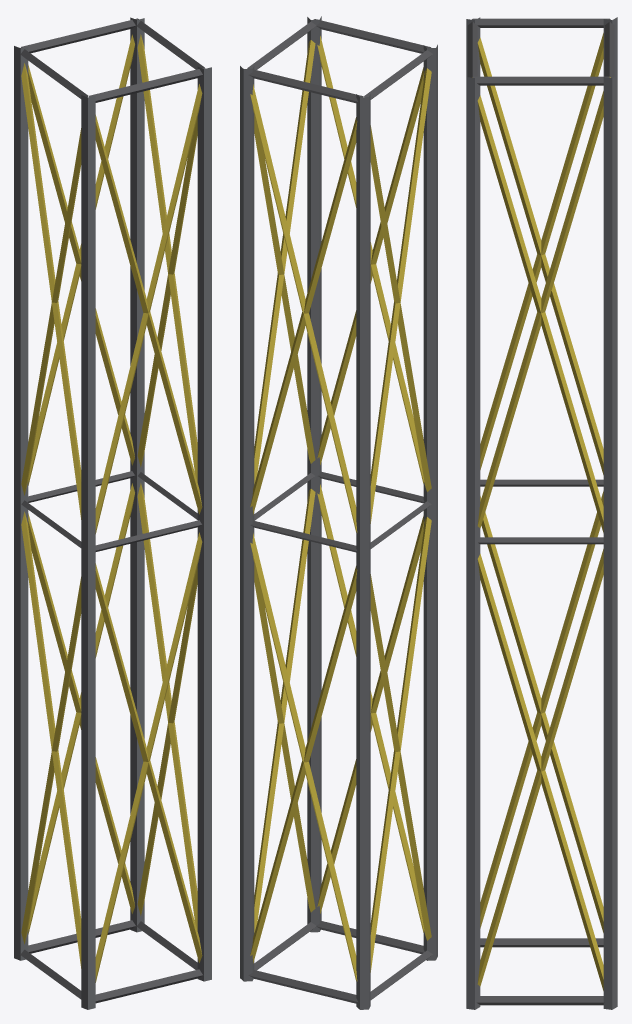
Rendered from rn2-fabrica-truss.glb.
The picture shows the model from 3 angles, left to right: view 1: azimuth 30°, elevation 25°; view 2: azimuth 150°, elevation 25°; view 3: azimuth 270°, elevation 25°; orthographic projection. The views are drawn at different scales.
Parts seen in each view (by area): view 1: rn2_fabrica_truss_body; view 2: rn2_fabrica_truss_body; view 3: rn2_fabrica_truss_body.
Boxes of the visible parts, x1,y1,x2,y2 form: rn2_fabrica_truss_body: (14, 17, 211, 1009); rn2_fabrica_truss_body: (240, 16, 437, 1009); rn2_fabrica_truss_body: (466, 17, 617, 1009).
Bounding box in the file's own units: 1.77 × 12 × 1.76.
